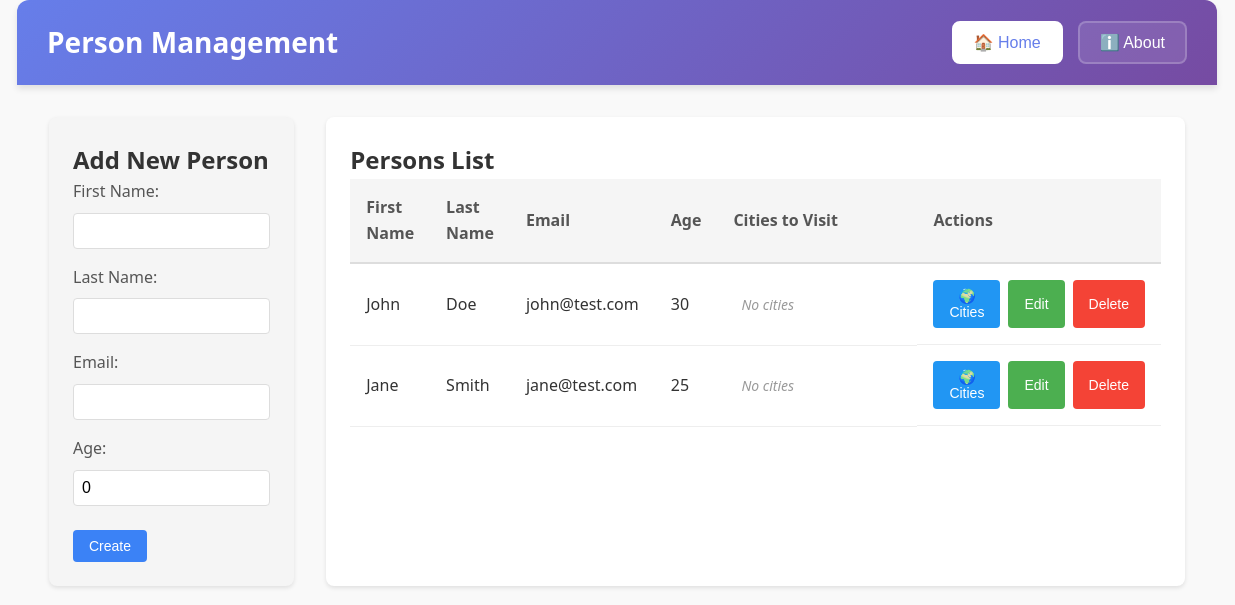
App › edit person › should populate form when edit button clicked
Check: the text "John" is shown, box [350,263,430,345]
Click the button "Edit" in the row of "Doe": (1036, 304) [1008,280,1064,328]
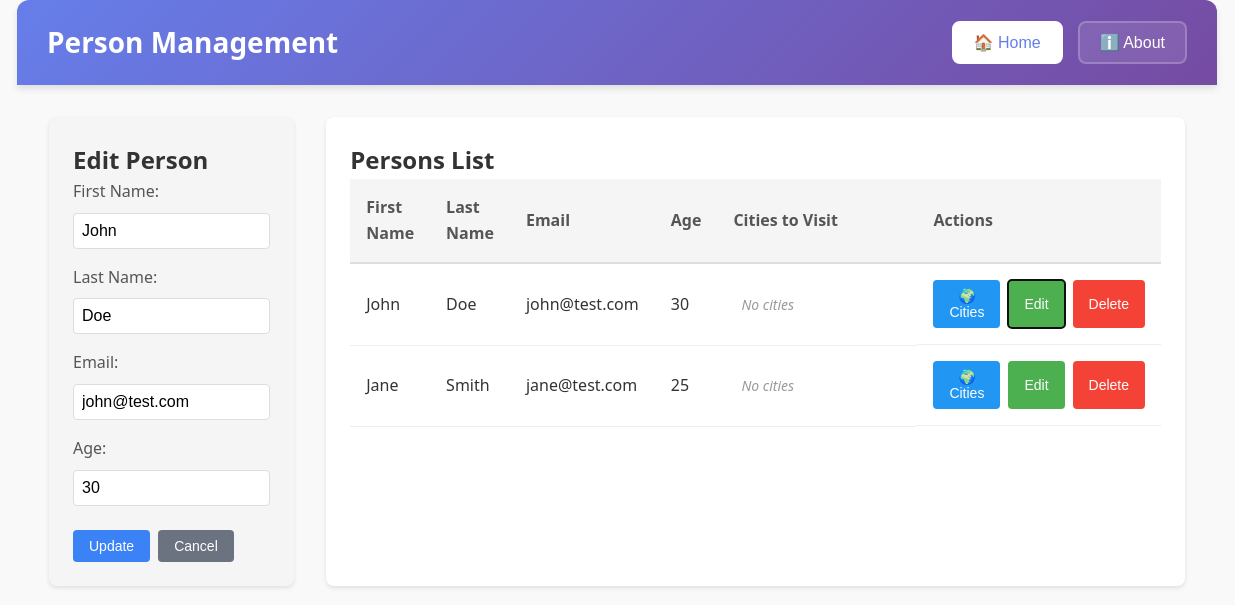
Check: the field labelled "First Name:" holds "John", box [73,213,270,249]
Check: the field labelled "Last Name:" holds "Doe", box [73,298,270,334]
Check: the field labelled "Email:" holds "john@test.com", box [73,384,270,420]
